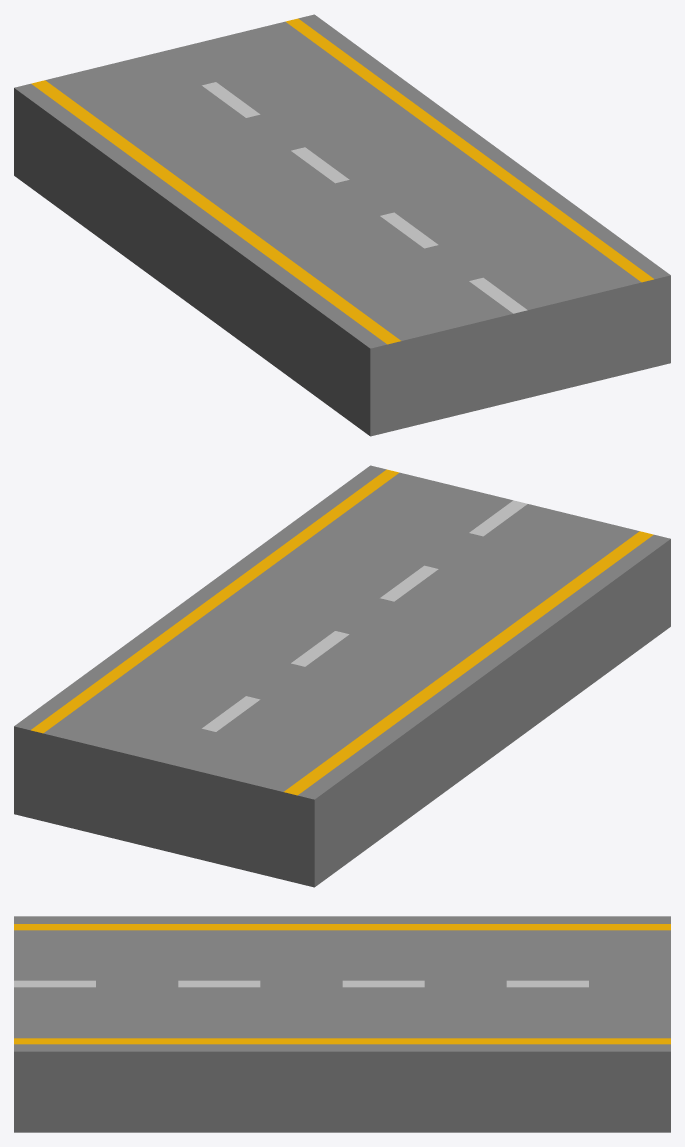
Rendered from road.fbx.
3 renders of one model, top to bottom at view 1: azimuth 30°, elevation 25°; view 2: azimuth 150°, elevation 25°; view 3: azimuth 270°, elevation 25°, orthographic. The views are drawn at different scales.
Visible parts, largest first — view 1: road; view 2: road; view 3: road.
Boxes of the visible parts, x1=… form: road: x1=14, y1=14, x2=670, y2=436; road: x1=14, y1=465, x2=670, y2=887; road: x1=14, y1=916, x2=670, y2=1132.
Bounding box in the file's own units: 18.39 × 5.14 × 37.77.
